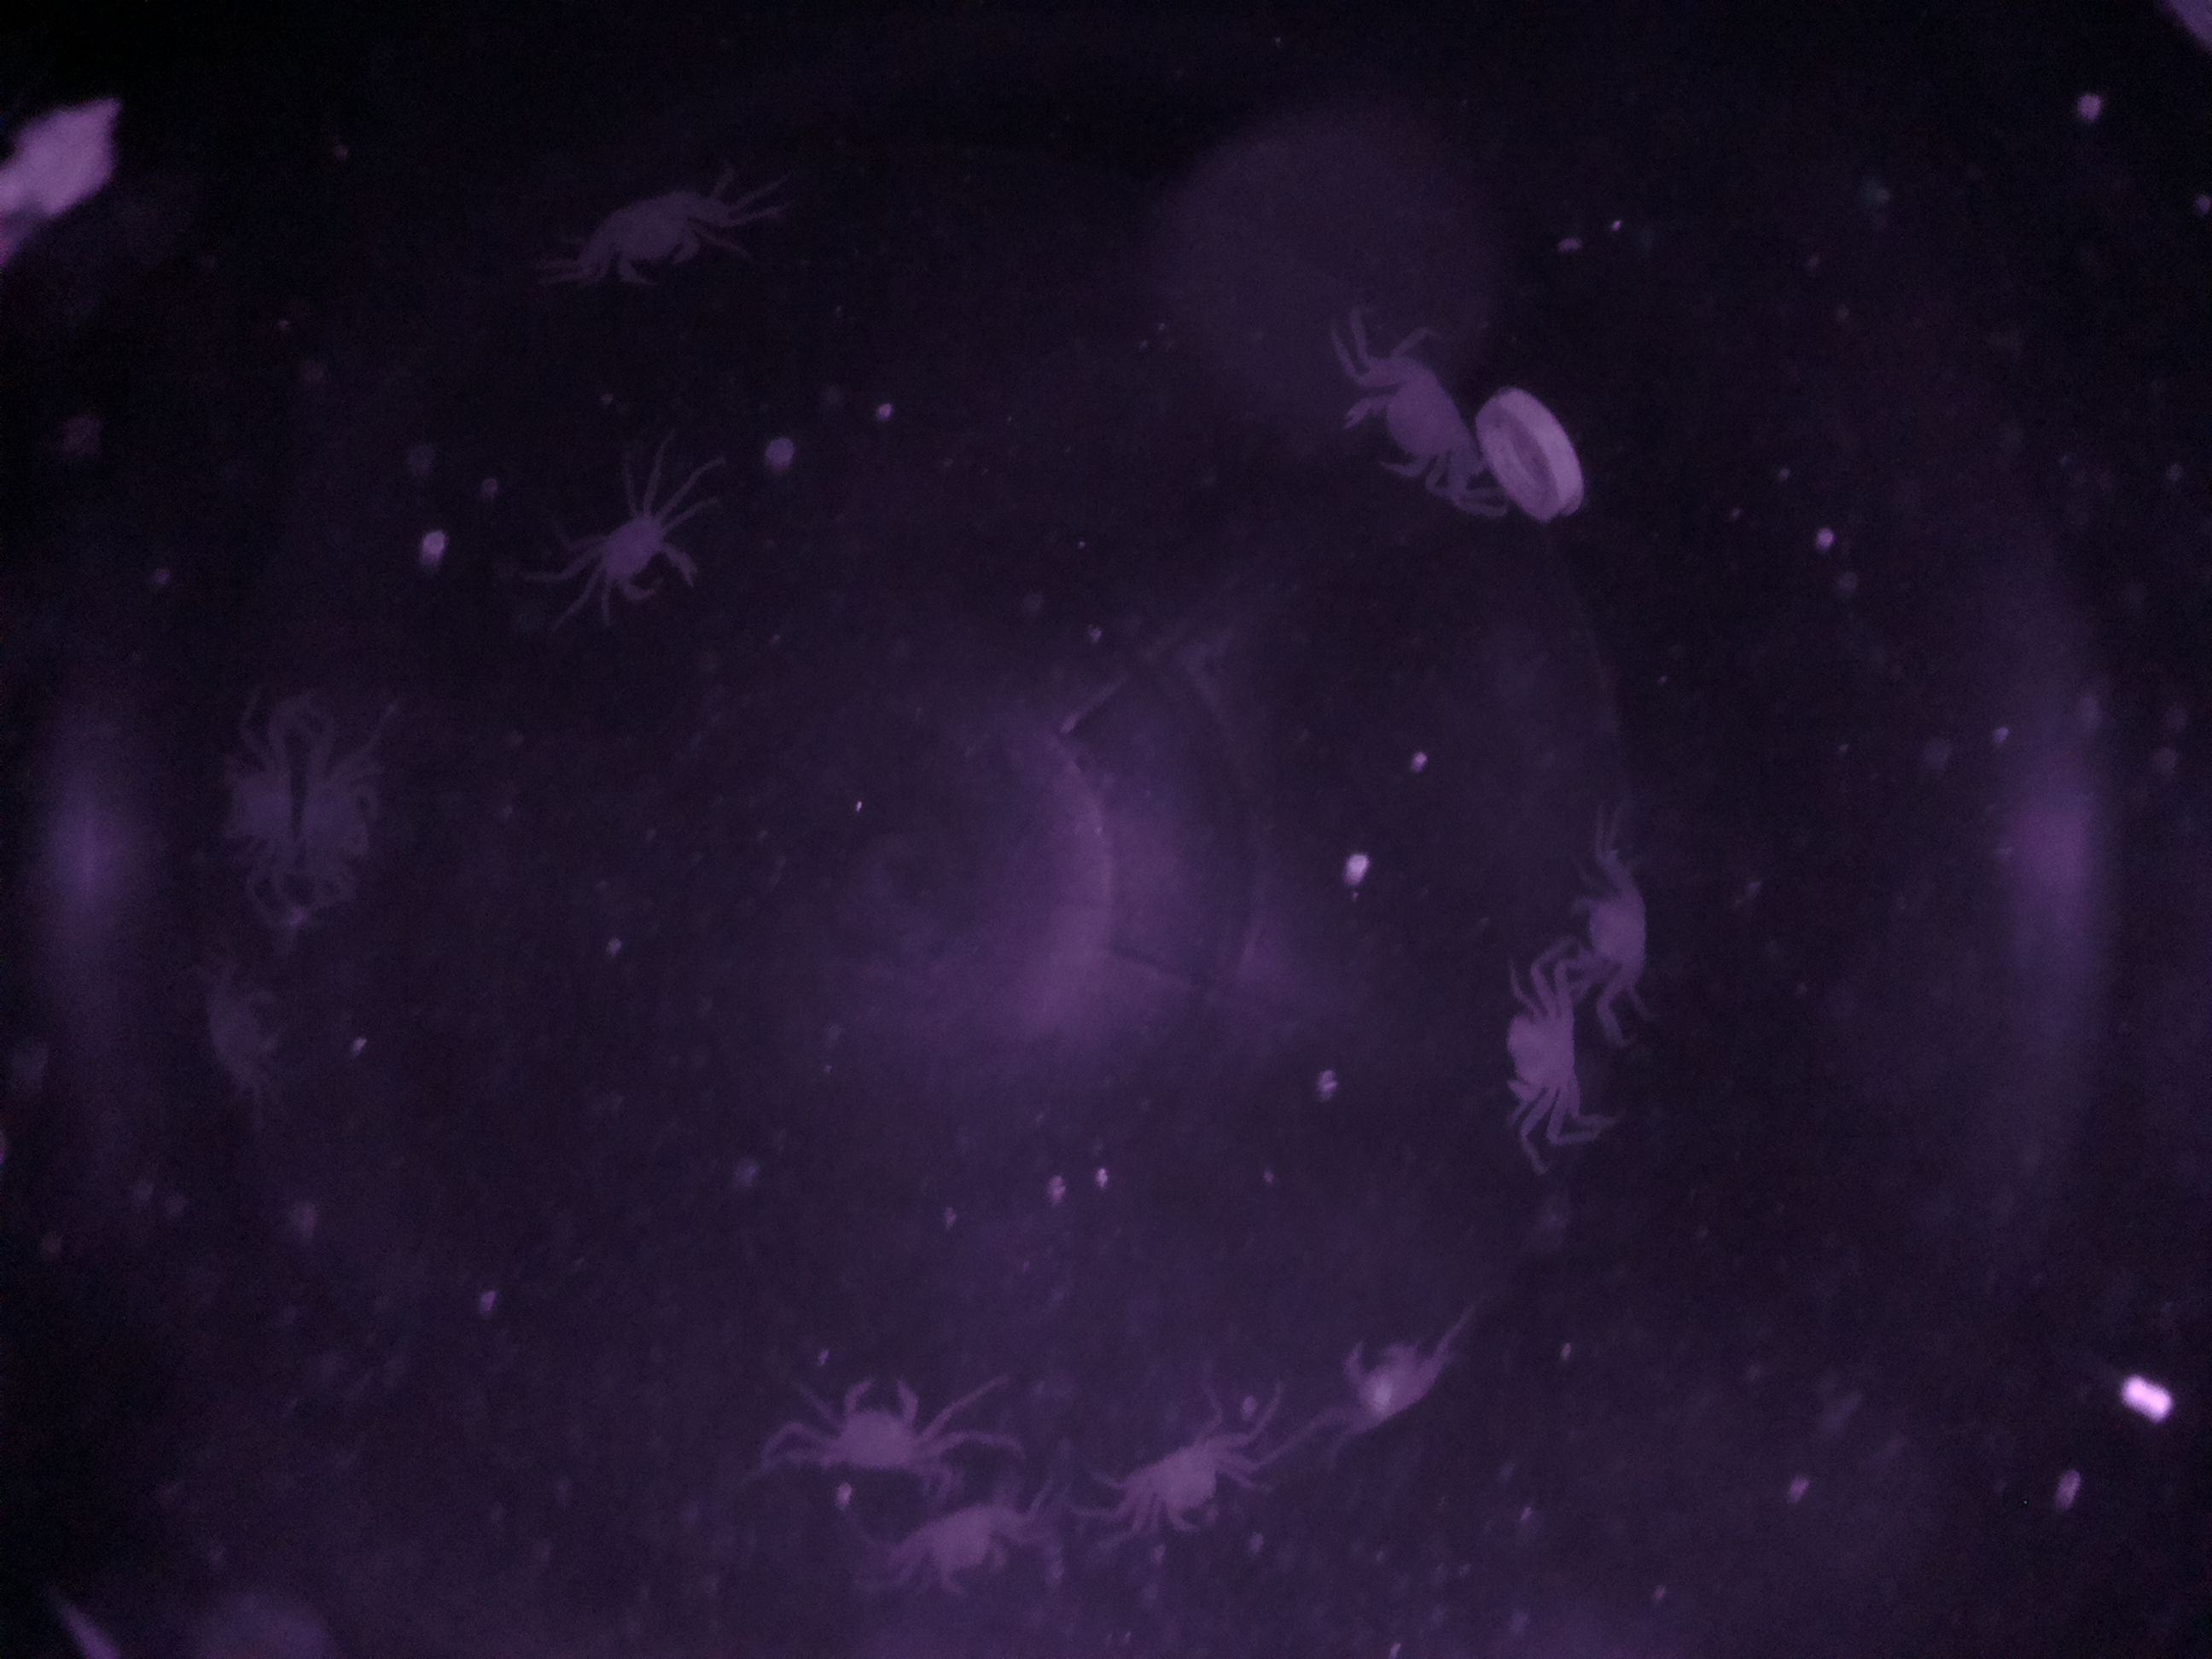Crab: (1089, 1399, 1298, 1556), (1324, 338, 1503, 518), (1308, 1309, 1477, 1473), (559, 476, 718, 638), (791, 1345, 965, 1492), (1470, 978, 1601, 1173)
